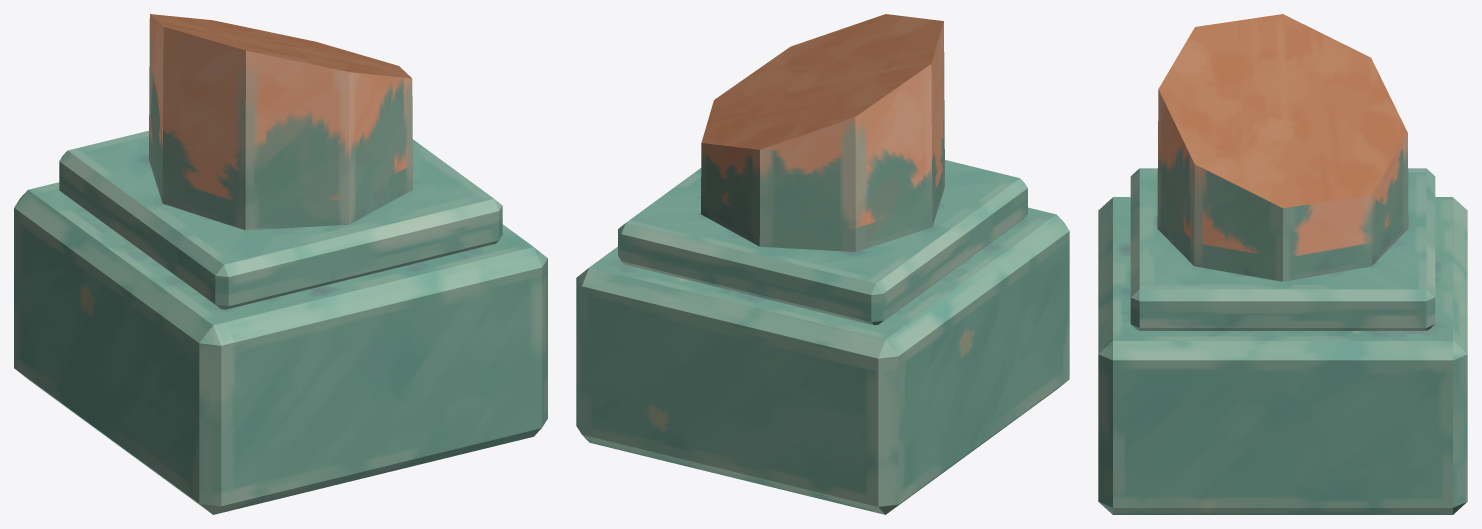
The model's file is pillar_s00.fbx.
The picture shows the model from 3 angles, left to right: view 1: azimuth 30°, elevation 25°; view 2: azimuth 150°, elevation 25°; view 3: azimuth 270°, elevation 25°; orthographic projection. The views are drawn at different scales.
Visible parts, largest first — view 1: pillar_s00; view 2: pillar_s00; view 3: pillar_s00.
Boxes of the visible parts, <box> form: pillar_s00: <box>14,14,547,514</box>; pillar_s00: <box>576,14,1069,514</box>; pillar_s00: <box>1098,14,1467,514</box>.
Size of the model in its own units: 2.5 by 2.83 by 2.5.
